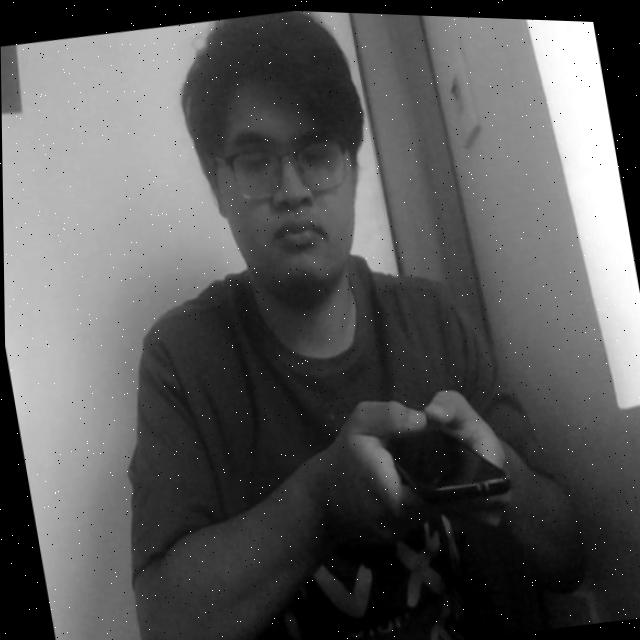phone: (352, 369, 527, 536)
